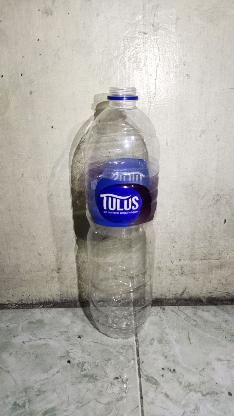Plastic Bottle: (82, 86, 160, 338)
